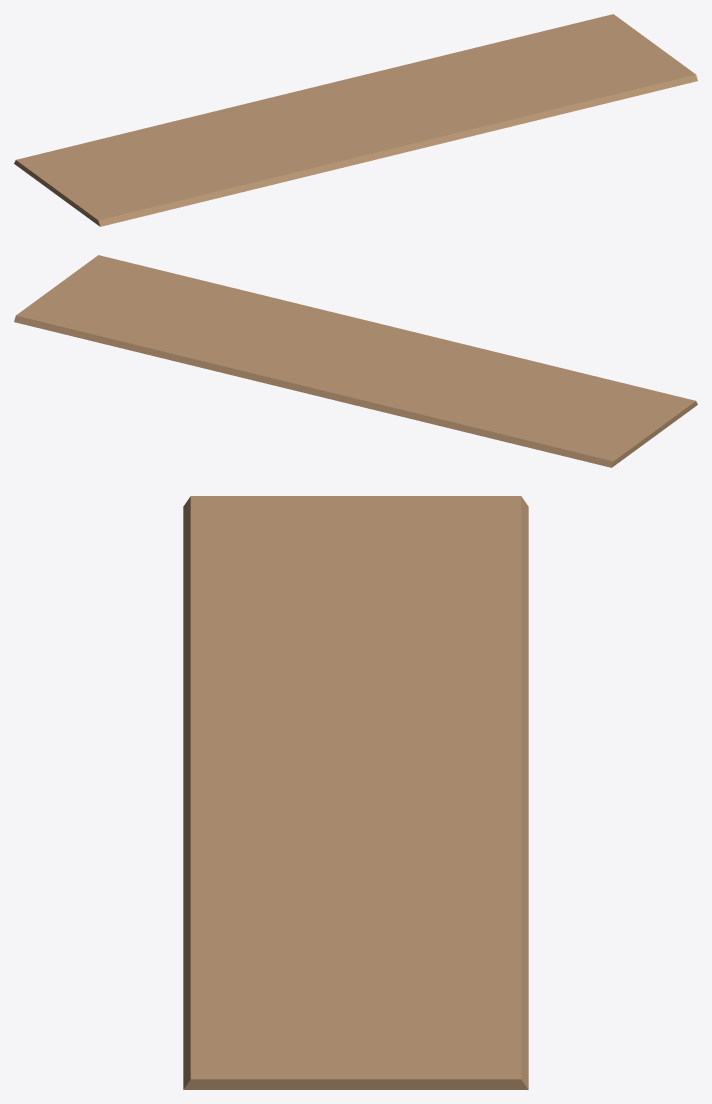
Rendered from Walkway_Straight.fbx.
3 renders of one model, top to bottom at view 1: azimuth 30°, elevation 25°; view 2: azimuth 150°, elevation 25°; view 3: azimuth 270°, elevation 25°, orthographic. The views are drawn at different scales.
Parts seen in each view (by area): view 1: Walkway_Straight; view 2: Walkway_Straight; view 3: Walkway_Straight.
Boxes of the visible parts, x1=… form: Walkway_Straight: x1=14, y1=14, x2=697, y2=226; Walkway_Straight: x1=14, y1=255, x2=697, y2=467; Walkway_Straight: x1=183, y1=496, x2=528, y2=1089.
Size of the model in its own units: 4800 by 40 by 1200.
